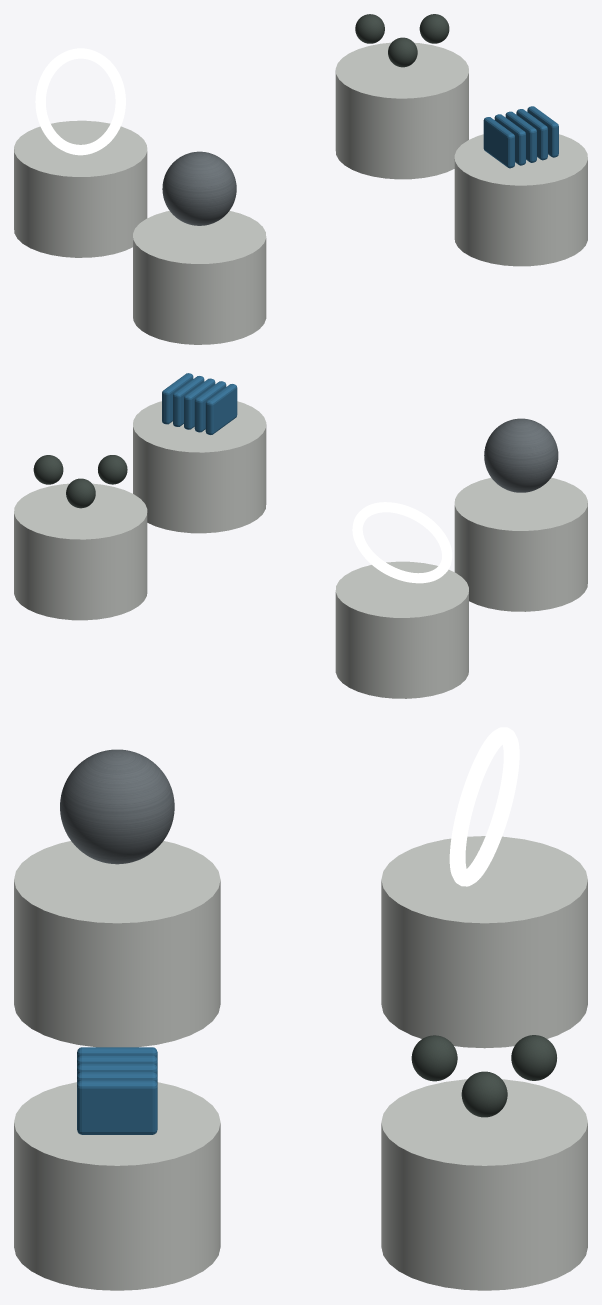
Rendered from experience.glb.
The picture shows the model from 3 angles, top to bottom: view 1: azimuth 30°, elevation 25°; view 2: azimuth 150°, elevation 25°; view 3: azimuth 270°, elevation 25°; orthographic projection. The views are drawn at different scales.
Visible parts, largest first — view 1: Static_experience, Float_Prototype, Spin_Workshop; view 2: Static_experience, Float_Prototype, Spin_Workshop; view 3: Static_experience, Float_Prototype, Spin_Workshop.
Boxes of the visible parts, <box> form: Static_experience: <box>14,14,587,344</box>; Float_Prototype: <box>162,151,236,225</box>; Spin_Workshop: <box>35,48,125,155</box>; Static_experience: <box>14,373,587,698</box>; Float_Prototype: <box>484,418,558,492</box>; Spin_Workshop: <box>352,502,452,583</box>; Static_experience: <box>14,836,587,1290</box>; Float_Prototype: <box>60,749,174,864</box>; Spin_Workshop: <box>449,727,519,886</box>.
Bounding box in the file's own units: 6.8 × 2.58 × 5.
5 materials, 2 textured.
